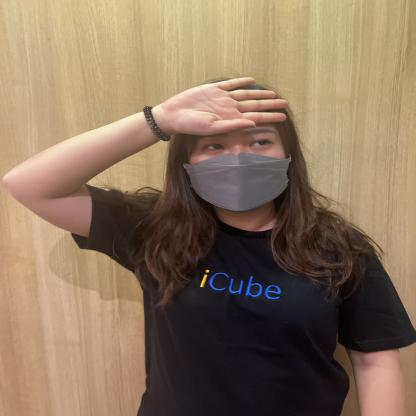Sick: (84, 50, 312, 154)
